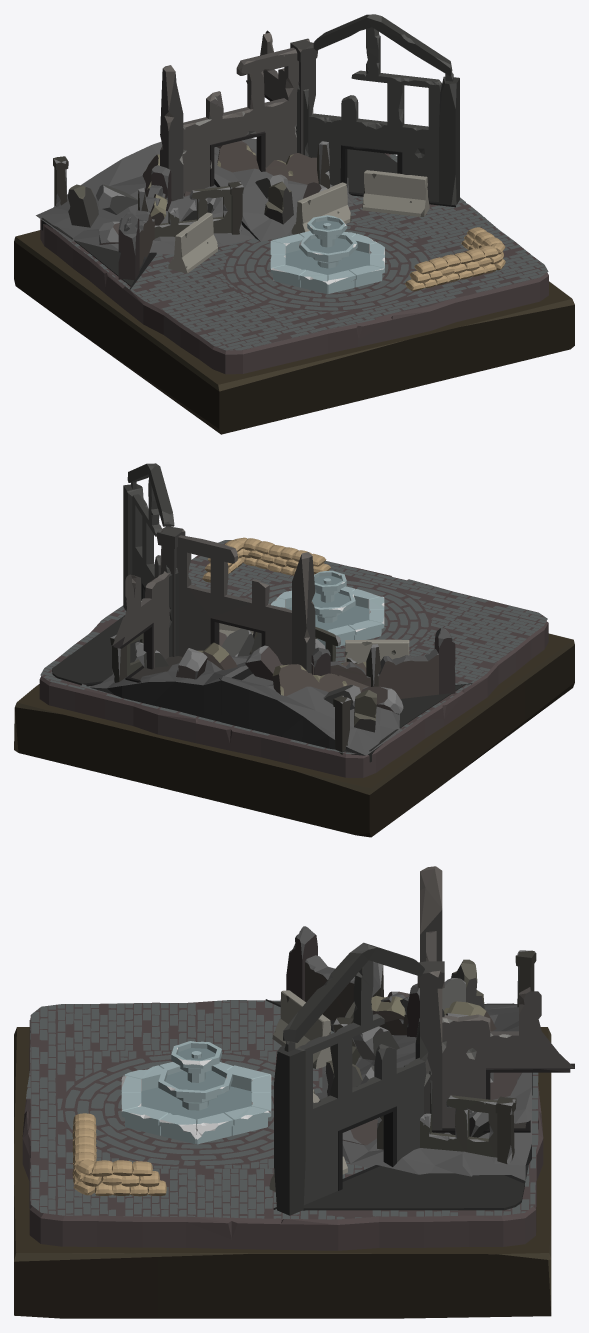
File: Stage010.fbx
3 views of the same model, one above another, from view 1: azimuth 30°, elevation 25°; view 2: azimuth 150°, elevation 25°; view 3: azimuth 270°, elevation 25° (orthographic). The views are drawn at different scales.
Visible parts, largest first — view 1: Stage010; view 2: Stage010; view 3: Stage010.
Part boxes in pixels (x1,y1,x2,y2): Stage010: [14, 14, 574, 434]; Stage010: [14, 463, 574, 837]; Stage010: [14, 866, 574, 1318].
Size of the model in its own units: 38.48 by 26.01 by 40.17.
Materials: 1 (1 with a texture image).
